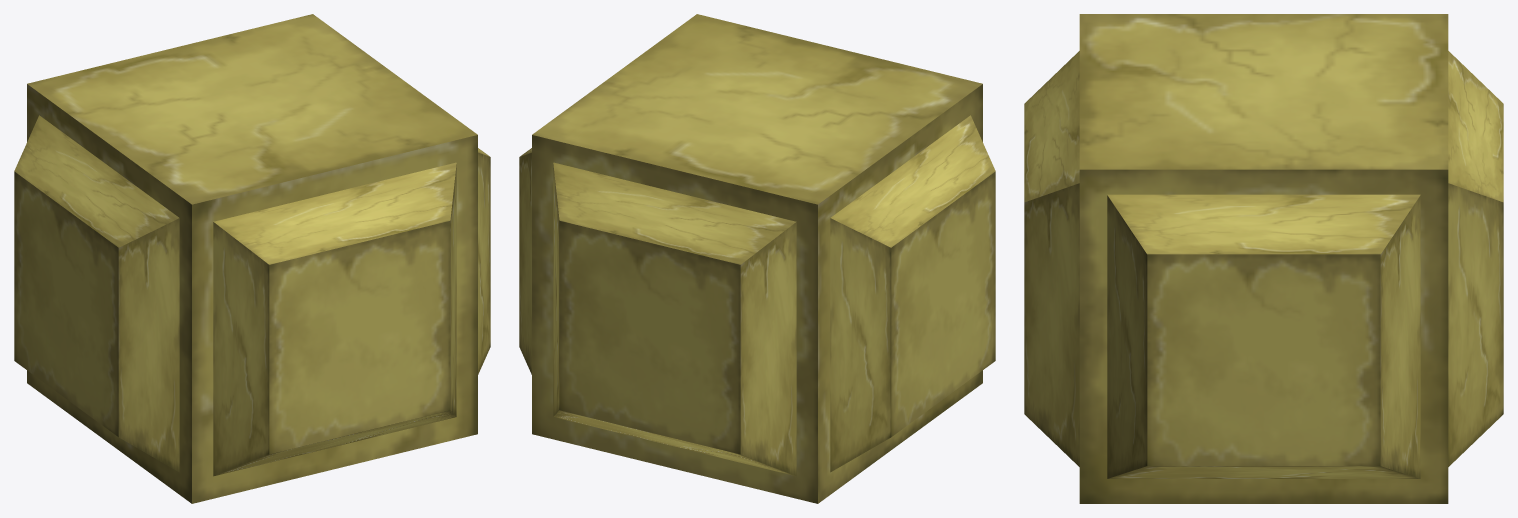
The model's file is Single Cube 11.fbx.
The picture shows the model from 3 angles, left to right: view 1: azimuth 30°, elevation 25°; view 2: azimuth 150°, elevation 25°; view 3: azimuth 270°, elevation 25°; orthographic projection. The views are drawn at different scales.
Parts seen in each view (by area): view 1: Single Cube 11; view 2: Single Cube 11; view 3: Single Cube 11.
Part boxes in pixels (<box>): Single Cube 11: <box>14,14,490,503</box>; Single Cube 11: <box>519,14,995,503</box>; Single Cube 11: <box>1024,14,1503,503</box>.
Bounding box in the file's own units: 2.6 × 2 × 2.6.
